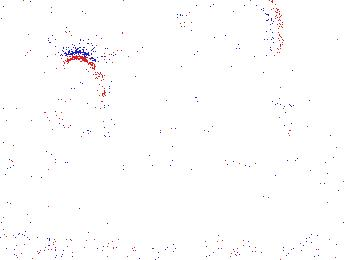moon jellyfish: (159, 6, 234, 109), (189, 1, 284, 75), (36, 53, 110, 131), (235, 105, 314, 174), (1, 1, 77, 53), (91, 50, 158, 90)
